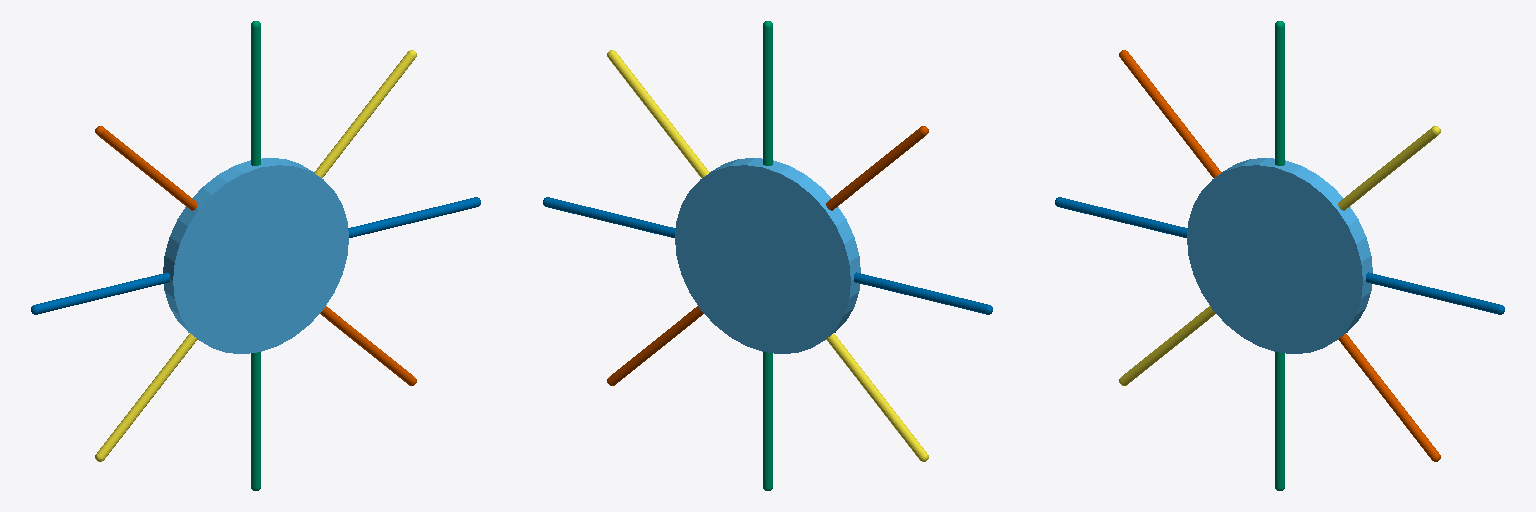
The robot description file, URDF, robot "rimless_wheel":
<?xml version="1.0"?>

<robot name="rimless_wheel">
  <link name="floor">
    <!-- <visual>
      <origin xyz="0 0 -0.05"/>
      <geometry>
        <box size="2.2 2.2 0.1"/>
      </geometry>
    </visual> -->
    <collision>
      <origin xyz="0 0 -0.05"/>
      <geometry>
        <box size="2.2 2.2 0.1"/>
      </geometry>
    </collision>
    <collision>
      <geometry>
        <plane normal="0 0 1"/>
      </geometry>
    </collision>
  </link>

  <link name="wheel">
  	<inertial>
      <origin rpy="1.5707963267948966 0 0"/>
  		<mass value="1.0"/>
  		<inertia ixx="1" iyy="1" izz="1" ixy="0.0" ixz="0.0" iyz="0.0"/>
  	</inertial>
  	<visual>
      <origin rpy="1.5707963267948966 0 0"/>
      <geometry>
        <cylinder radius="0.1" length="0.02"/>
      </geometry>
    </visual>
  </link>

  <joint name="floating_base" type="planar">
    <axis xyz="0 -1 0"/>
    <parent link="floor"/>
    <child link="wheel"/>
  </joint>

  <link name="spoke1">
    <visual>
      <geometry>
        <cylinder radius="0.005" length="0.5"/>
      </geometry>
    </visual>
    <visual>
      <origin xyz="0 0 0.25"/>
      <geometry>
        <sphere radius="0.005"/>
      </geometry>
    </visual>
    <collision>
      <origin xyz="0 0 0.25"/>
      <geometry>
        <sphere radius="0.0"/>
      </geometry>
    </collision>
    <visual>
      <origin xyz="0 0 -0.25"/>
      <geometry>
        <sphere radius="0.005"/>
      </geometry>
    </visual>
    <collision>
      <origin xyz="0 0 -0.25"/>
      <geometry>
        <sphere radius="0.0"/>
      </geometry>
    </collision>
  </link>

  <link name="spoke2">
    <visual>
      <geometry>
        <cylinder radius="0.005" length="0.5"/>
      </geometry>
    </visual>
    <visual>
      <origin xyz="0 0 0.25"/>
      <geometry>
        <sphere radius="0.005"/>
      </geometry>
    </visual>
    <collision>
      <origin xyz="0 0 0.25"/>
      <geometry>
        <sphere radius="0.0"/>
      </geometry>
    </collision>
    <visual>
      <origin xyz="0 0 -0.25"/>
      <geometry>
        <sphere radius="0.005"/>
      </geometry>
    </visual>
    <collision>
      <origin xyz="0 0 -0.25"/>
      <geometry>
        <sphere radius="0.0"/>
      </geometry>
    </collision>
  </link>

  <link name="spoke3">
    <visual>
      <geometry>
        <cylinder radius="0.005" length="0.5"/>
      </geometry>
    </visual>
    <visual>
      <origin xyz="0 0 0.25"/>
      <geometry>
        <sphere radius="0.005"/>
      </geometry>
    </visual>
    <collision>
      <origin xyz="0 0 0.25"/>
      <geometry>
        <sphere radius="0.0"/>
      </geometry>
    </collision>
    <visual>
      <origin xyz="0 0 -0.25"/>
      <geometry>
        <sphere radius="0.005"/>
      </geometry>
    </visual>
    <collision>
      <origin xyz="0 0 -0.25"/>
      <geometry>
        <sphere radius="0.0"/>
      </geometry>
    </collision>
  </link>

  <link name="spoke4">
    <visual>
      <geometry>
        <cylinder radius="0.005" length="0.5"/>
      </geometry>
    </visual>
    <visual>
      <origin xyz="0 0 0.25"/>
      <geometry>
        <sphere radius="0.005"/>
      </geometry>
    </visual>
    <collision>
      <origin xyz="0 0 0.25"/>
      <geometry>
        <sphere radius="0.0"/>
      </geometry>
    </collision>
    <visual>
      <origin xyz="0 0 -0.25"/>
      <geometry>
        <sphere radius="0.005"/>
      </geometry>
    </visual>
    <collision>
      <origin xyz="0 0 -0.25"/>
      <geometry>
        <sphere radius="0.0"/>
      </geometry>
    </collision>
  </link>

  <joint name="wheel_to_spoke1" type="fixed">
    <parent link="wheel"/>
    <child link="spoke1"/>
  </joint>

  <joint name="wheel_to_spoke2" type="fixed">
    <origin rpy="0 0.7853981633974483 0"/>
    <parent link="wheel"/>
    <child link="spoke2"/>
  </joint>

  <joint name="wheel_to_spoke3" type="fixed">
    <origin rpy="0 1.5707963267948966 0"/>
    <parent link="wheel"/>
    <child link="spoke3"/>
  </joint>

  <joint name="wheel_to_spoke4" type="fixed">
    <origin rpy="0 2.356194490192345 0"/>
    <parent link="wheel"/>
    <child link="spoke4"/>
  </joint>
</robot>

--- Facts derived from the render (not from the file) ---
The picture shows the robot from 3 angles, left to right: view 1: azimuth 30°, elevation 25°; view 2: azimuth 150°, elevation 25°; view 3: azimuth 330°, elevation 25°; orthographic projection.
Robot: rimless_wheel — 6 links, 5 joints (4 fixed, 1 planar); root link floor; default pose: all joints at 0.
Visible links, largest first — view 1: wheel, spoke2, spoke1, spoke3, spoke4; view 2: wheel, spoke2, spoke1, spoke3, spoke4; view 3: wheel, spoke4, spoke1, spoke3, spoke2.
Link boxes in pixels (x1,y1,x2,y2): wheel: (163,158,348,353); spoke2: (95,50,416,461); spoke1: (251,21,260,490); spoke3: (31,197,480,314); spoke4: (95,126,416,385); wheel: (675,158,860,353); spoke2: (607,50,928,461); spoke1: (763,21,772,490); spoke3: (543,197,992,314); spoke4: (607,126,928,385); wheel: (1187,158,1372,353); spoke4: (1119,50,1440,461); spoke1: (1275,21,1284,490); spoke3: (1055,197,1504,314); spoke2: (1119,126,1440,385).
Bounding box of the posed robot: 0.51 × 0.02 × 0.51 m (x, y, z).
Geometry: primitives only (box / cylinder / sphere), no mesh files.